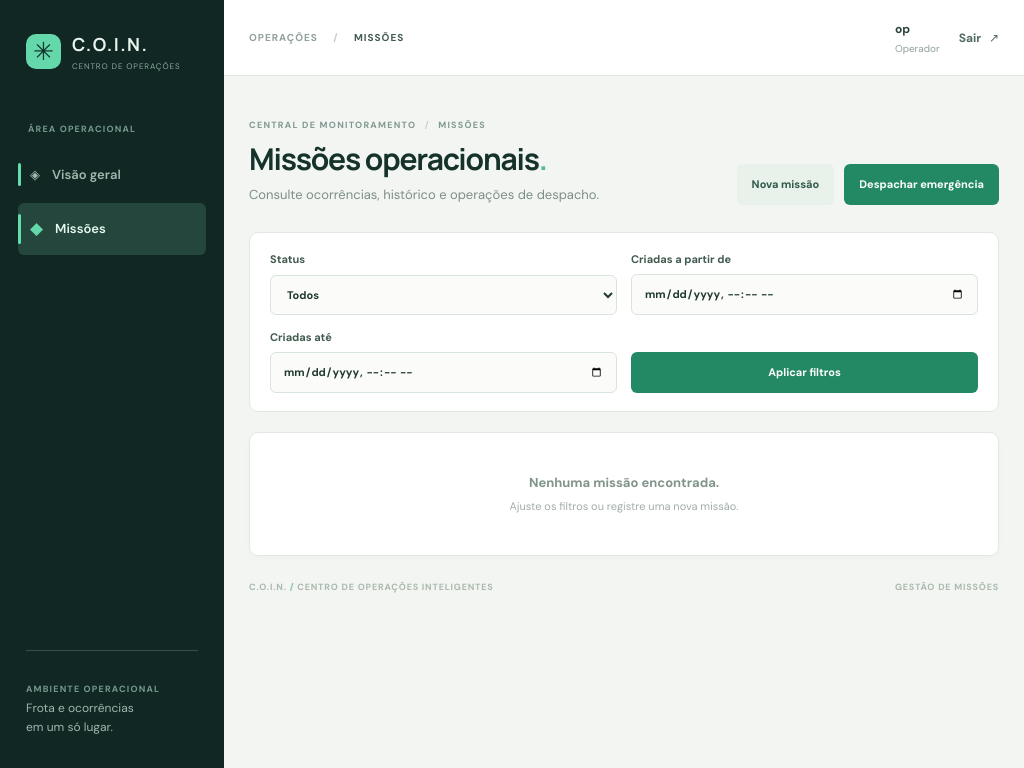
lista e detalhes de missões › valida intervalo de filtros antes da API
Expected: the text "Nenhuma missão encontrada." is shown, x1=529 y1=474 x2=719 y2=490
Type "2026-10-31T14:00" into the field labelled "Criadas a partir de" at (804, 294), box x1=631 y1=274 x2=978 y2=314
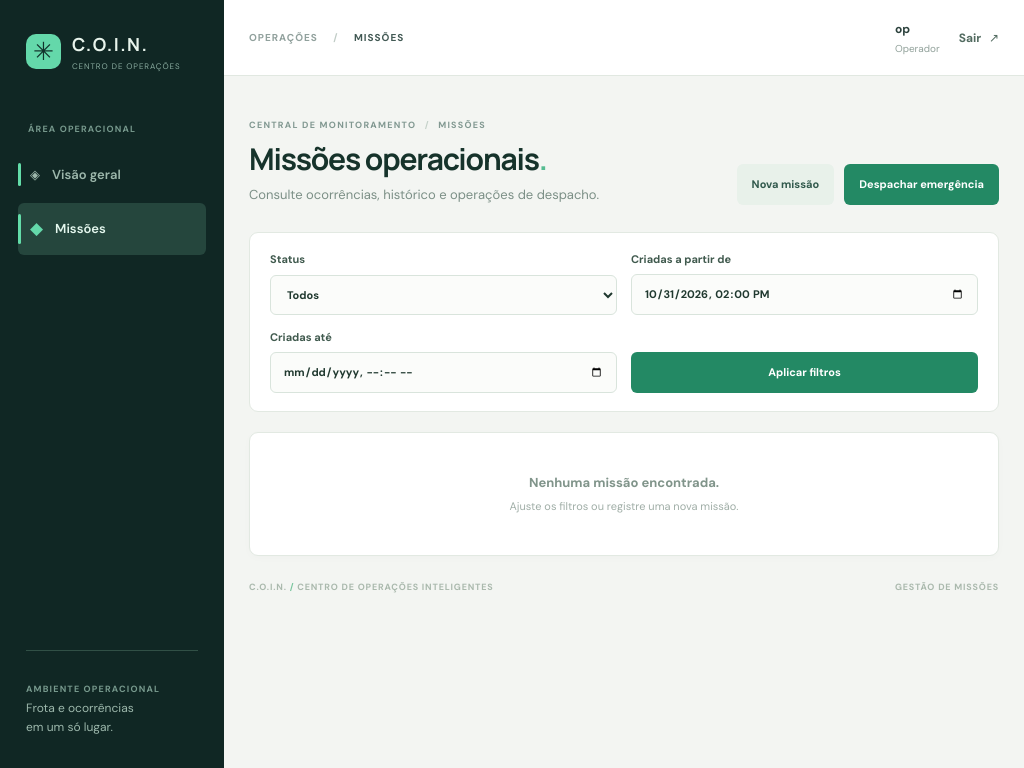
Type "2026-10-31T13:00" into the field labelled "Criadas até" at (444, 372), box x1=270 y1=352 x2=617 y2=392
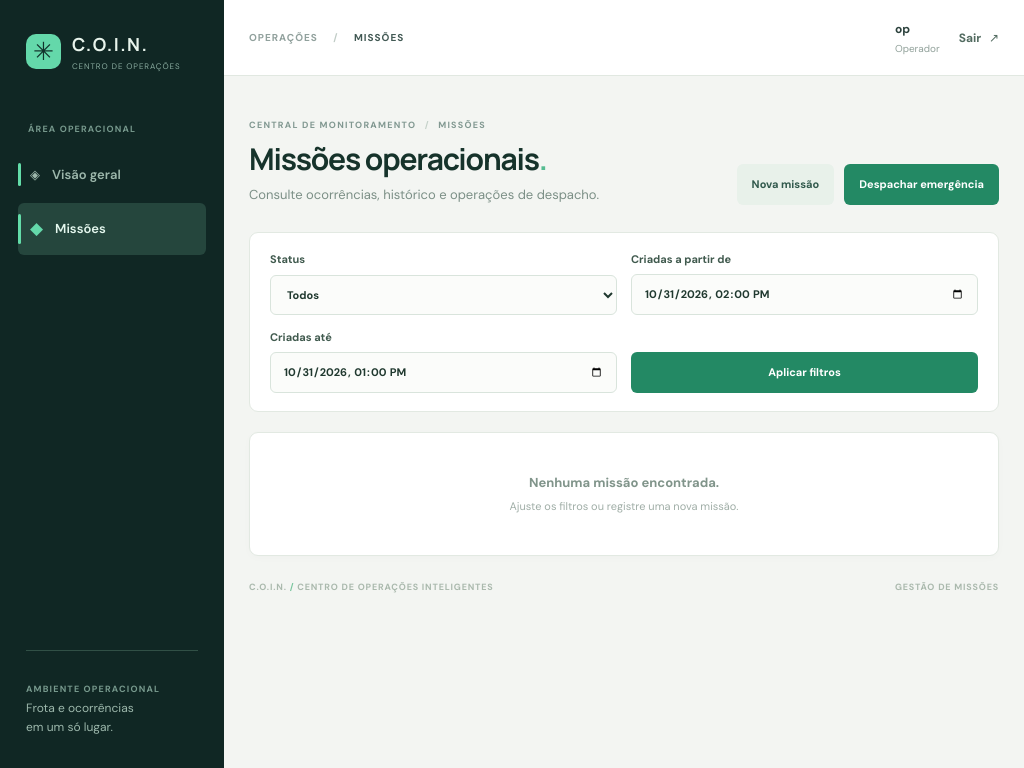
Click the button "Aplicar filtros" at (804, 372), box x1=631 y1=352 x2=978 y2=392
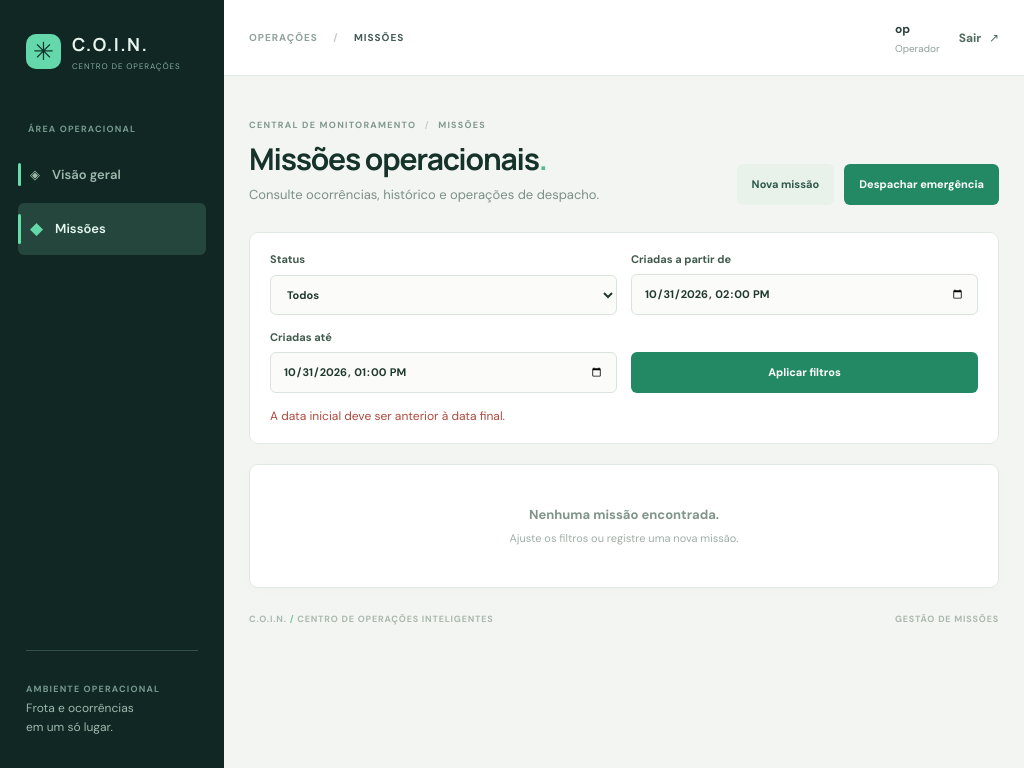
Expected: the message shows "data inicial", x1=270 y1=408 x2=505 y2=424
